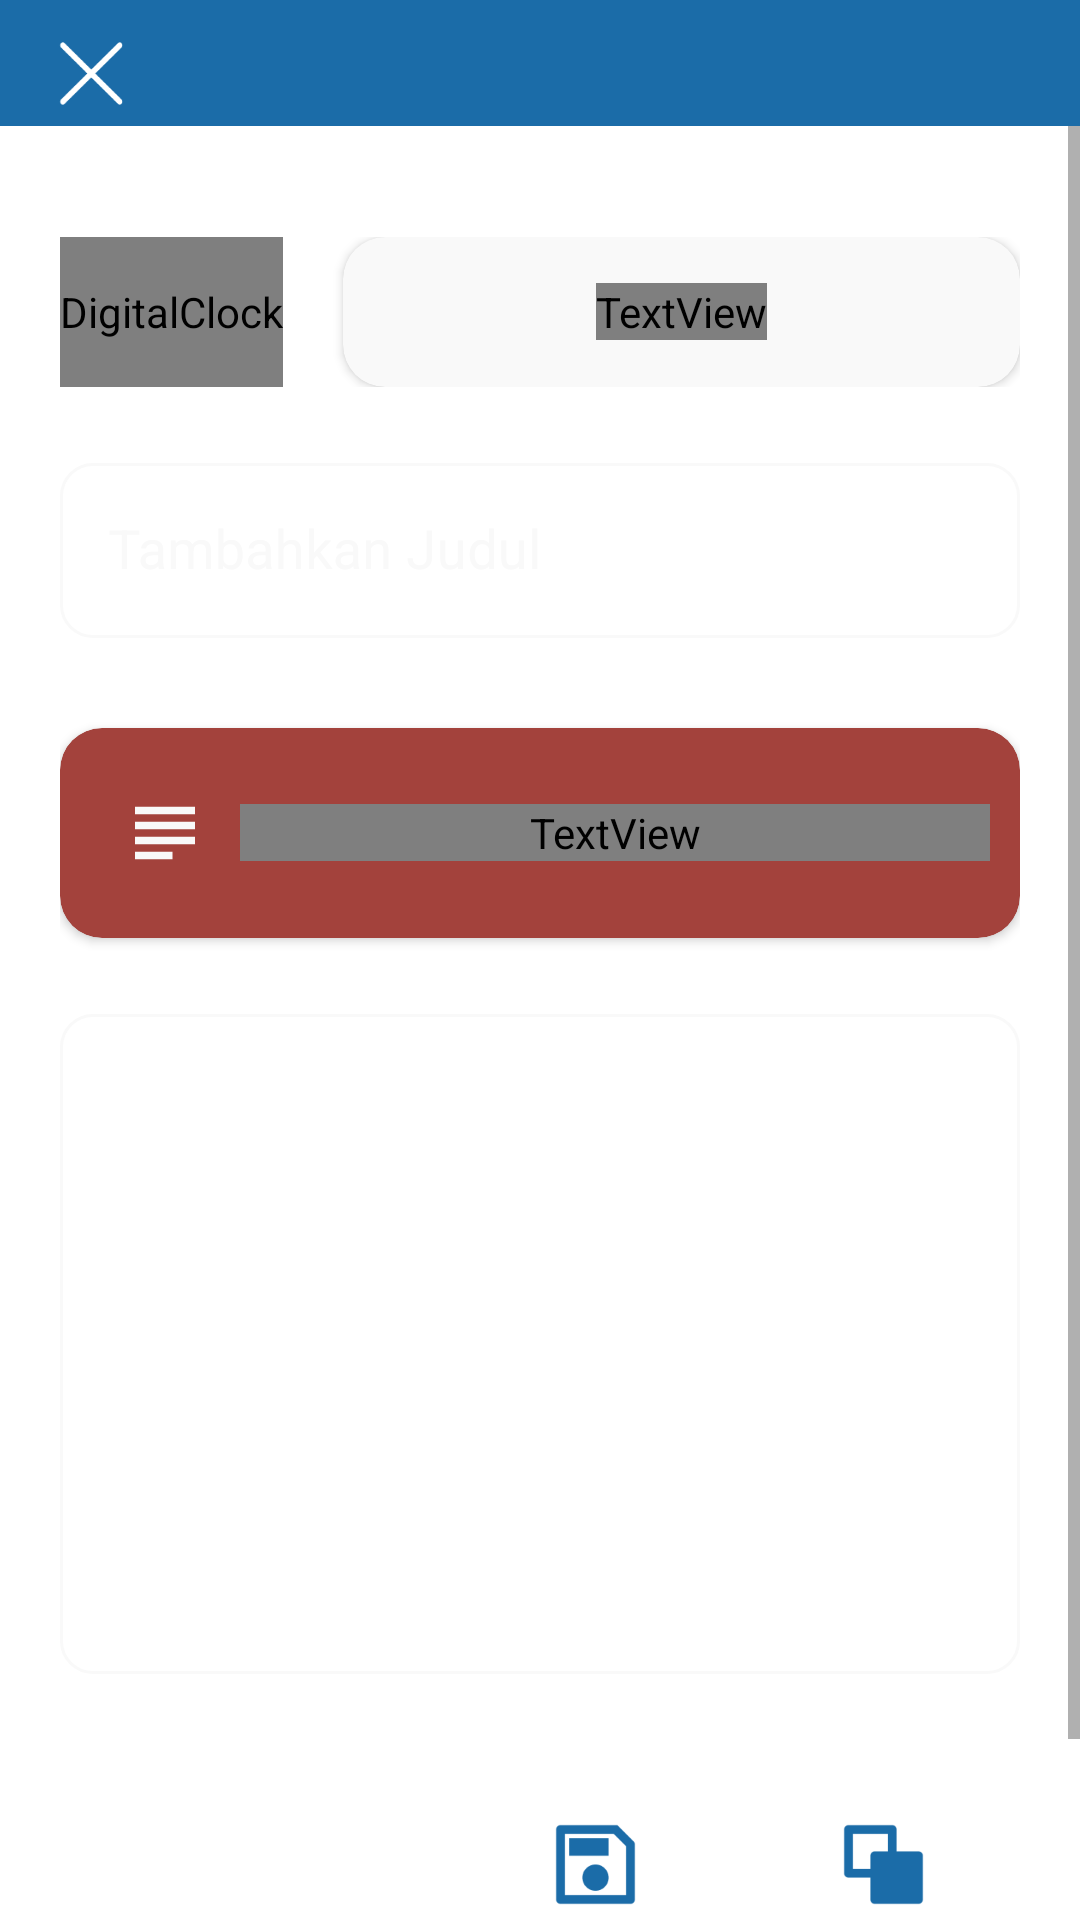

Icon click points for this 1080px x 1920px phone screenshot, format (x,y):
line: (165,833)
